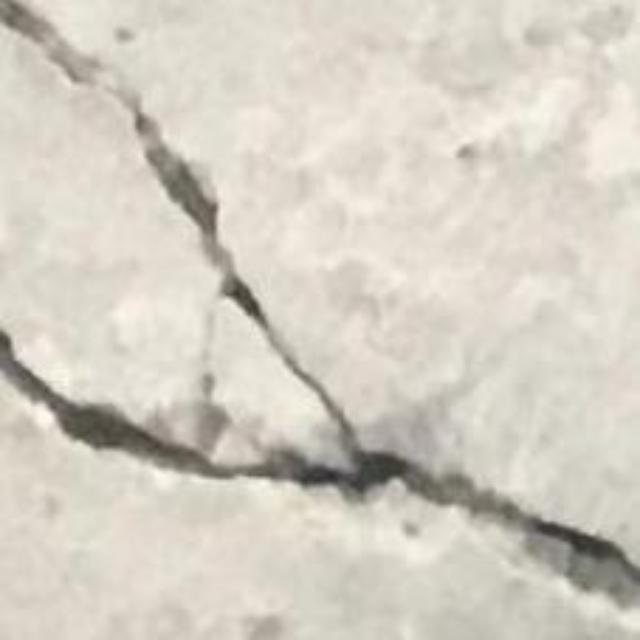crack: (0, 0, 639, 634)
